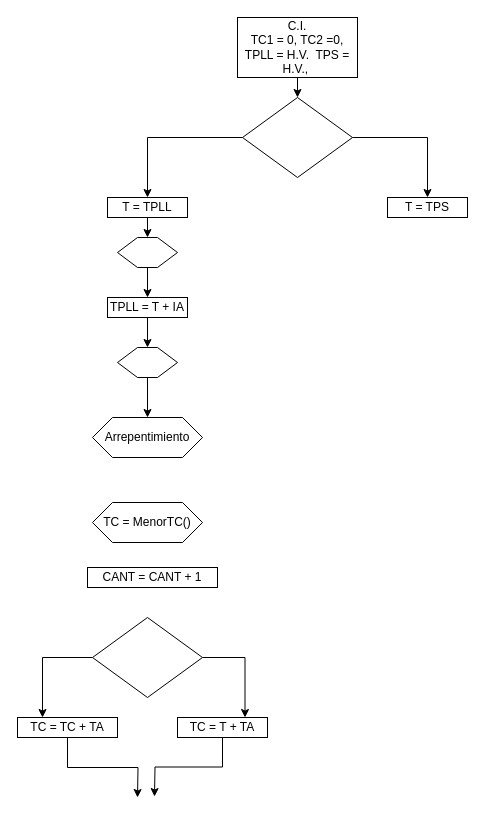
This 485x823 diagram has some shape labels left out. The box of each missing label's shape, as (x1, y1, x2, y2) in pixels:
IA: (116, 236, 178, 268)
TA: (116, 346, 178, 378)
TC < T: (92, 616, 202, 698)
TPLL < TPS: (242, 96, 352, 178)
